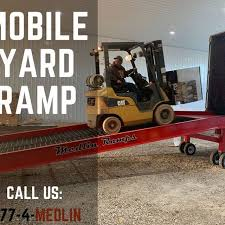Pallet Jack: (84, 39, 202, 135)
